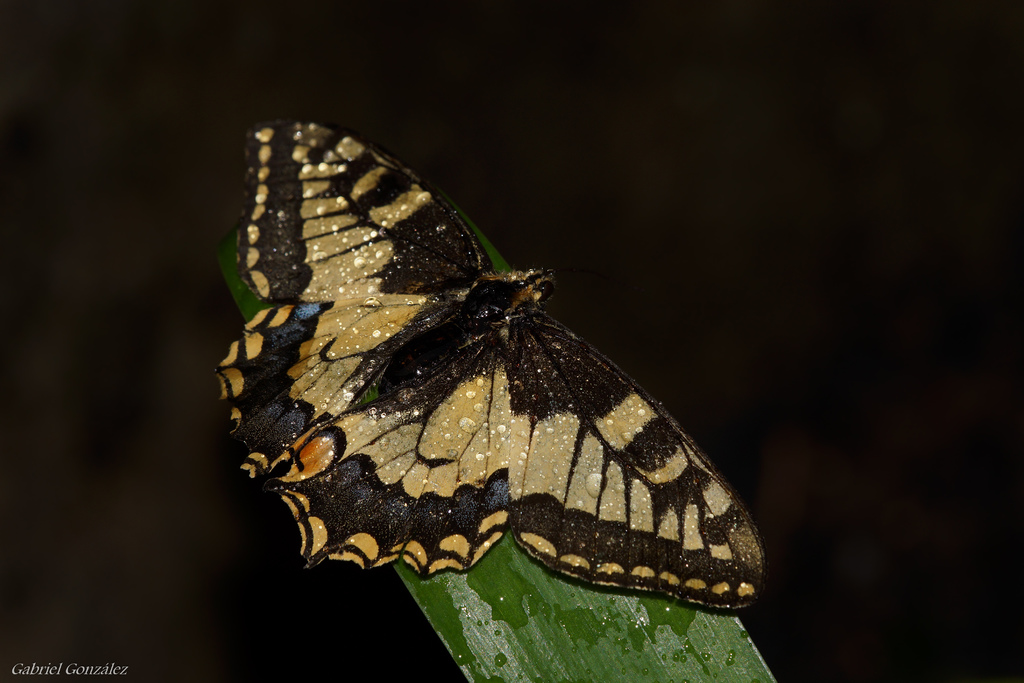Butterfly: (208, 98, 790, 615)
